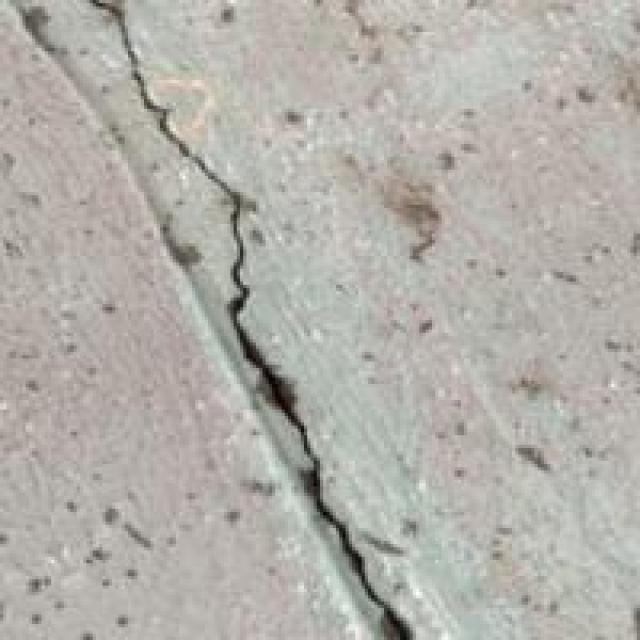crack: (86, 0, 438, 624)
